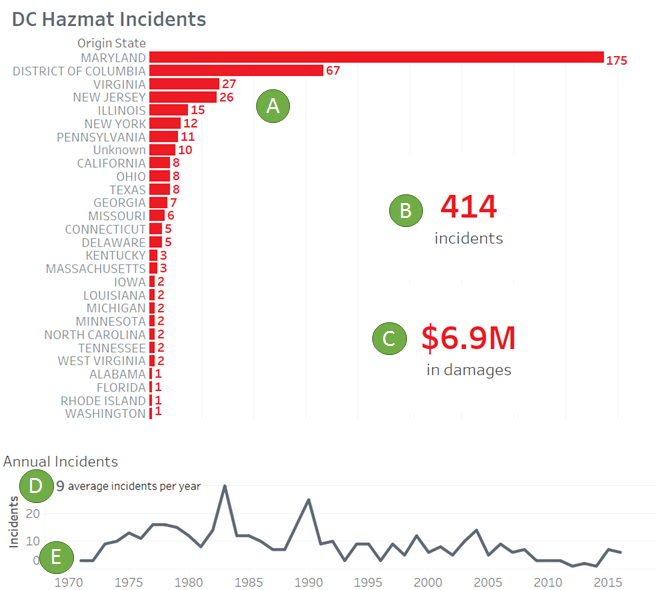

This screenshot's page, from the dashboard's own definition file:
{"tool":"tableau","page":{"name":"DC-Hazmat-Incidents","canvas":[1000,900],"ordinal":0},"visuals":[{"type":"worksheet","title":"by State","mark":"Bar","rows":["Origin State"],"cols":["Number of Records","Number of Records"],"box":[0,0,1000,640.6]},{"type":"worksheet","title":"Total Incidents","mark":"Automatic","box":[587,234,250,197]},{"type":"worksheet","title":"Total Damages","mark":"Automatic","box":[587,431,250,197]},{"type":"blank","box":[0,640.6,1000,32.4]},{"type":"worksheet","title":"Annual Incidents","mark":"Line","rows":["Number of Records"],"cols":["Date of Incident"],"box":[0,673,1000,227]},{"type":"text","box":[106,713,208,46]},{"type":"worksheet","title":"Annual Avg","mark":"Automatic","box":[80,718,30,36]}]}

Visuals, with their boxes in screenshot pixels (x1, y1, x2, y2), scaled from the page's 1000x900 canvas onto the 656x590 screenshot:
"by State" worksheet (Bar marks): detection(0, 0, 655, 420)
"Total Incidents" worksheet: detection(385, 153, 549, 283)
"Total Damages" worksheet: detection(385, 283, 549, 412)
blank: detection(0, 420, 655, 441)
"Annual Incidents" worksheet (Line marks): detection(0, 441, 655, 589)
text: detection(70, 467, 206, 498)
"Annual Avg" worksheet: detection(52, 471, 72, 494)
